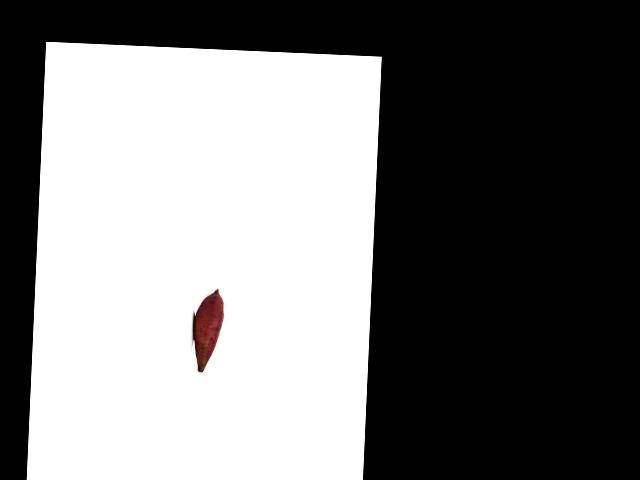sweet_potato: (193, 287, 224, 373)
